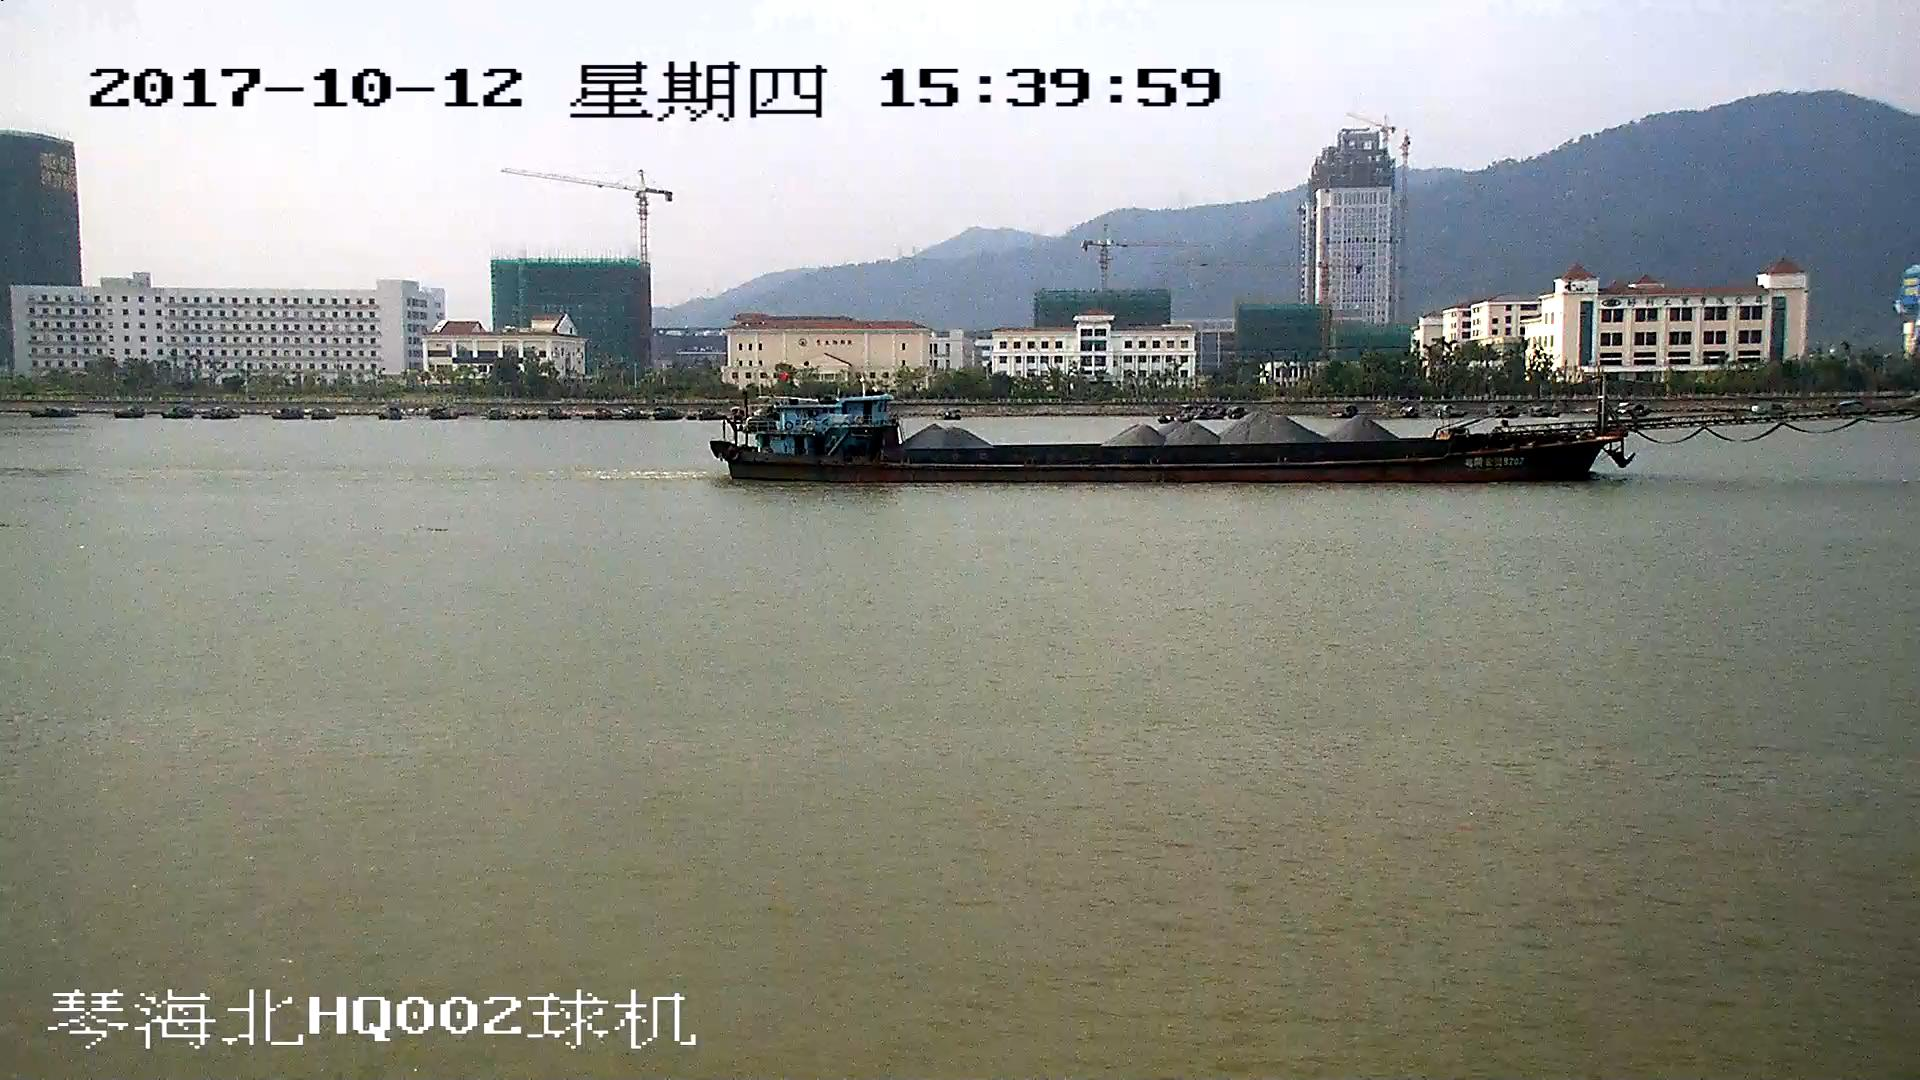ore carrier: (715, 378, 1920, 483)
